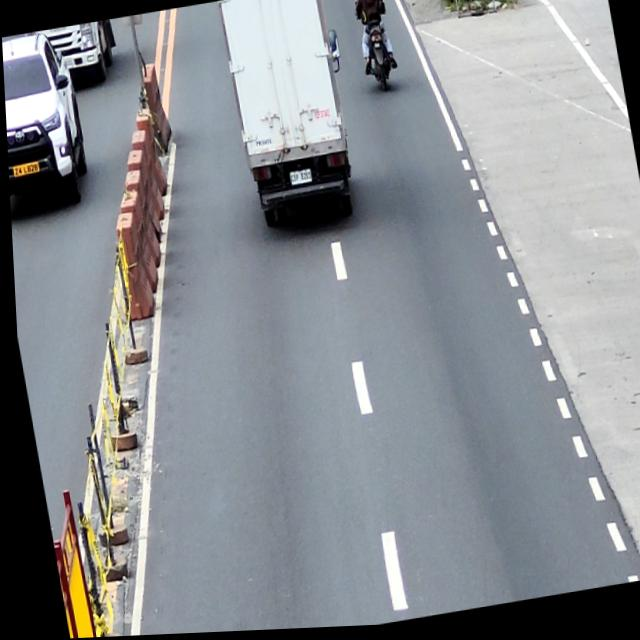Car: (1, 29, 93, 216)
License-Plate: (10, 161, 39, 177), (287, 172, 310, 187)
Motorcycle: (355, 9, 397, 98)
Truck: (216, 0, 366, 231)
